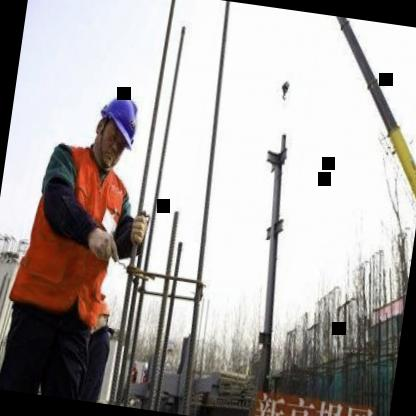helmet: (84, 84, 148, 178), (89, 296, 112, 332)
